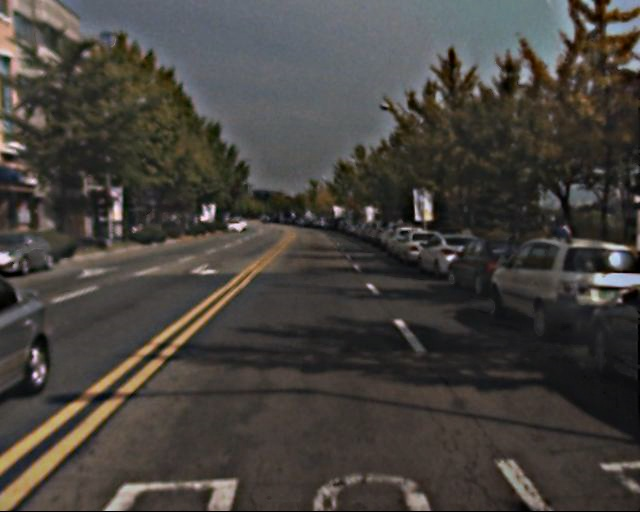person: (547, 216, 573, 279)
